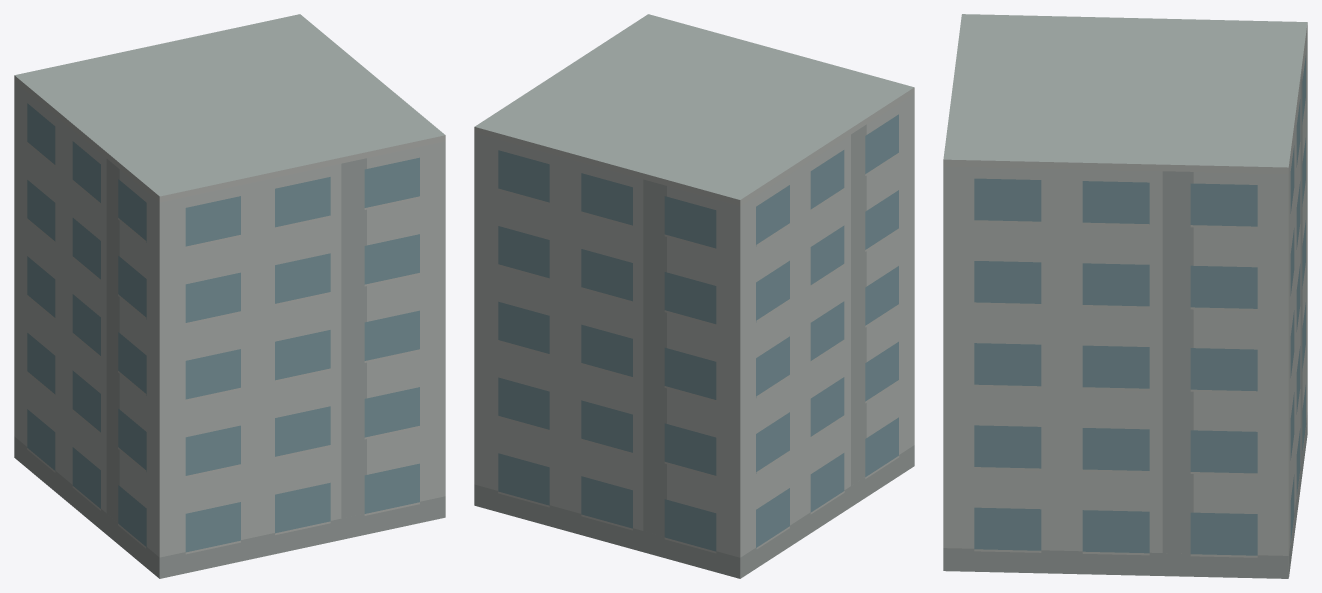
File: survey-upis-32994551.glb
3 views of the same model, side by side, from view 1: azimuth 30°, elevation 25°; view 2: azimuth 150°, elevation 25°; view 3: azimuth 270°, elevation 25° (orthographic). The views are drawn at different scales.
Parts seen in each view (by area): view 1: survey-upis-32994551.tmp; view 2: survey-upis-32994551.tmp; view 3: survey-upis-32994551.tmp.
Boxes of the visible parts, box(x1,y1,x2,y2) form: survey-upis-32994551.tmp: box(14, 14, 445, 578); survey-upis-32994551.tmp: box(474, 14, 914, 578); survey-upis-32994551.tmp: box(943, 14, 1307, 578).
Bounding box in the file's own units: 12.21 × 15.25 × 12.25.
